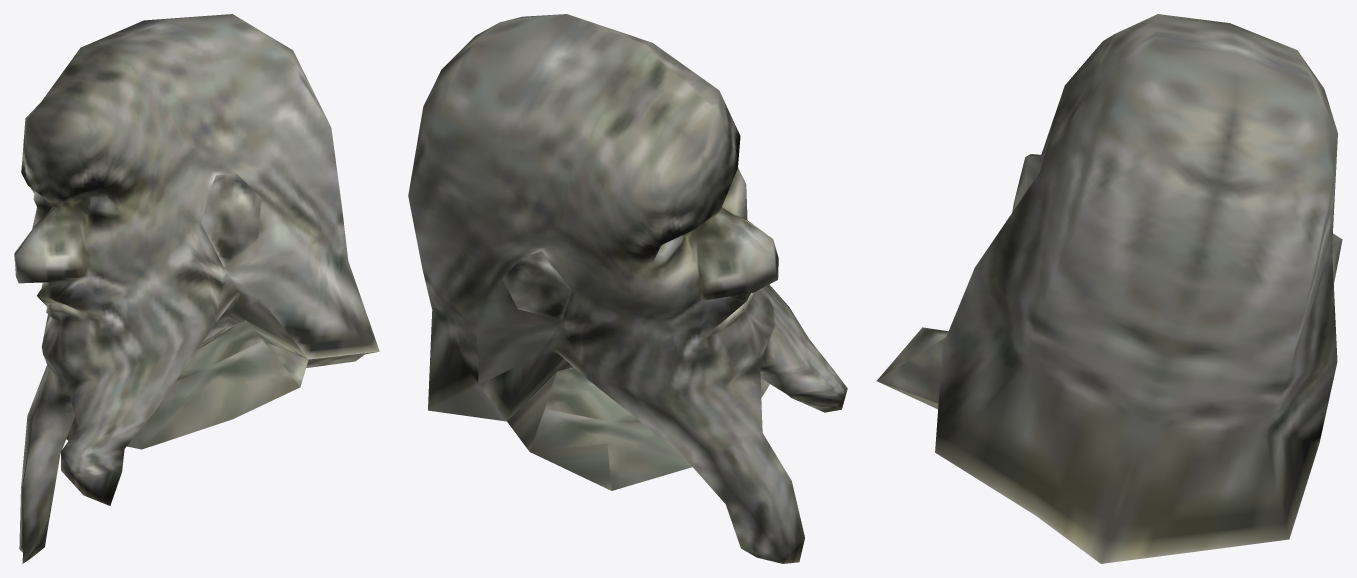
Rendered from INST_SM_SCULPTUREHEAD.fbx.
The picture shows the model from 3 angles, left to right: view 1: azimuth 30°, elevation 25°; view 2: azimuth 150°, elevation 25°; view 3: azimuth 270°, elevation 25°; orthographic projection. The views are drawn at different scales.
Parts seen in each view (by area): view 1: INST_SM_SCULPTUREHEAD; view 2: INST_SM_SCULPTUREHEAD; view 3: INST_SM_SCULPTUREHEAD.
Part boxes in pixels (bbox=[...]): INST_SM_SCULPTUREHEAD: bbox=[14, 14, 379, 563]; INST_SM_SCULPTUREHEAD: bbox=[408, 14, 847, 563]; INST_SM_SCULPTUREHEAD: bbox=[877, 14, 1342, 563].
Bounding box in the file's own units: 21298 × 29304 × 20462.
1 material, 1 textured.
